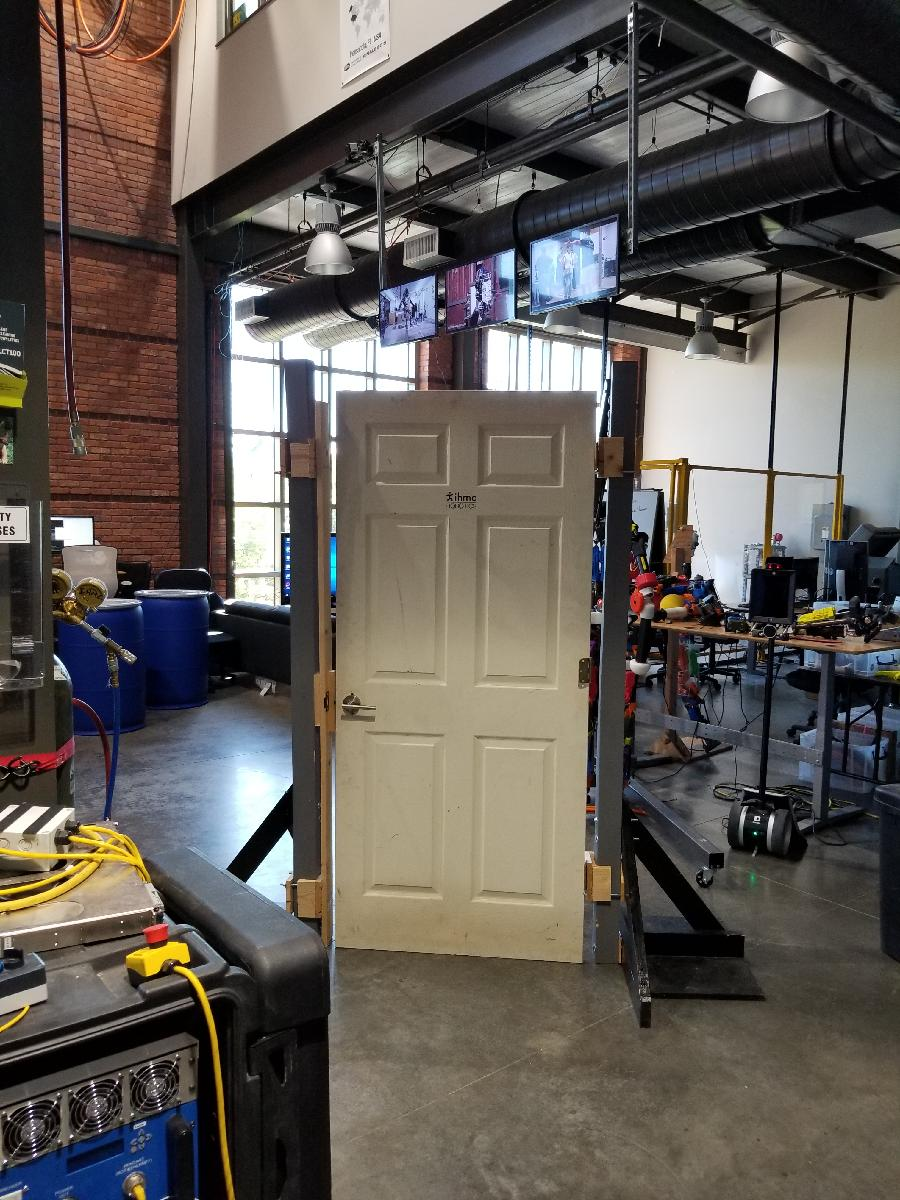door: (332, 386, 600, 968)
doorHandle: (341, 692, 376, 715)
